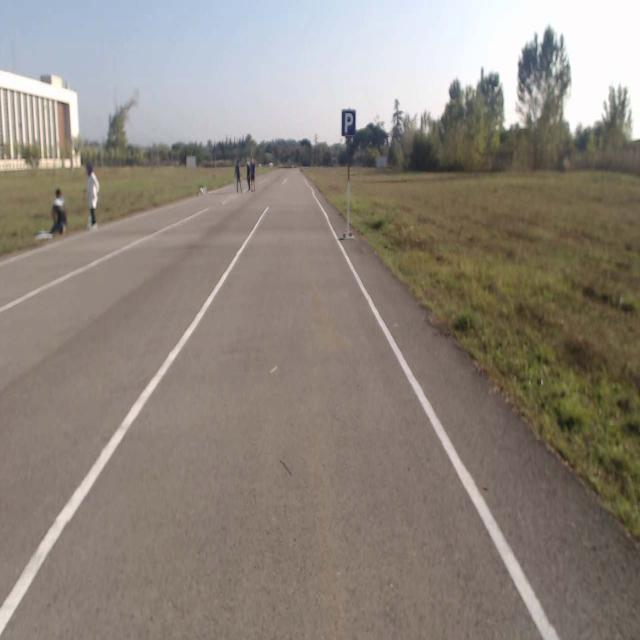park: (341, 109, 355, 135)
